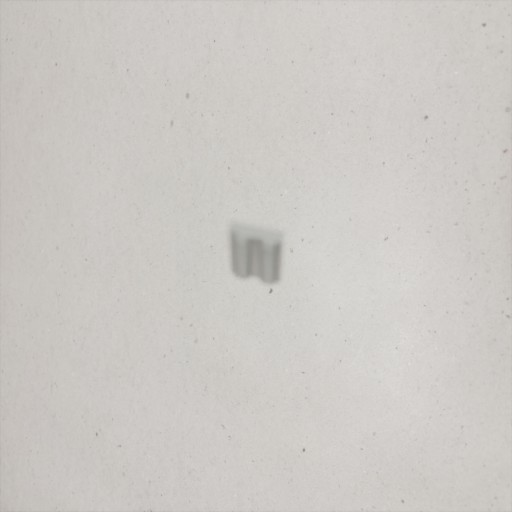lego: (228, 220, 285, 286)
